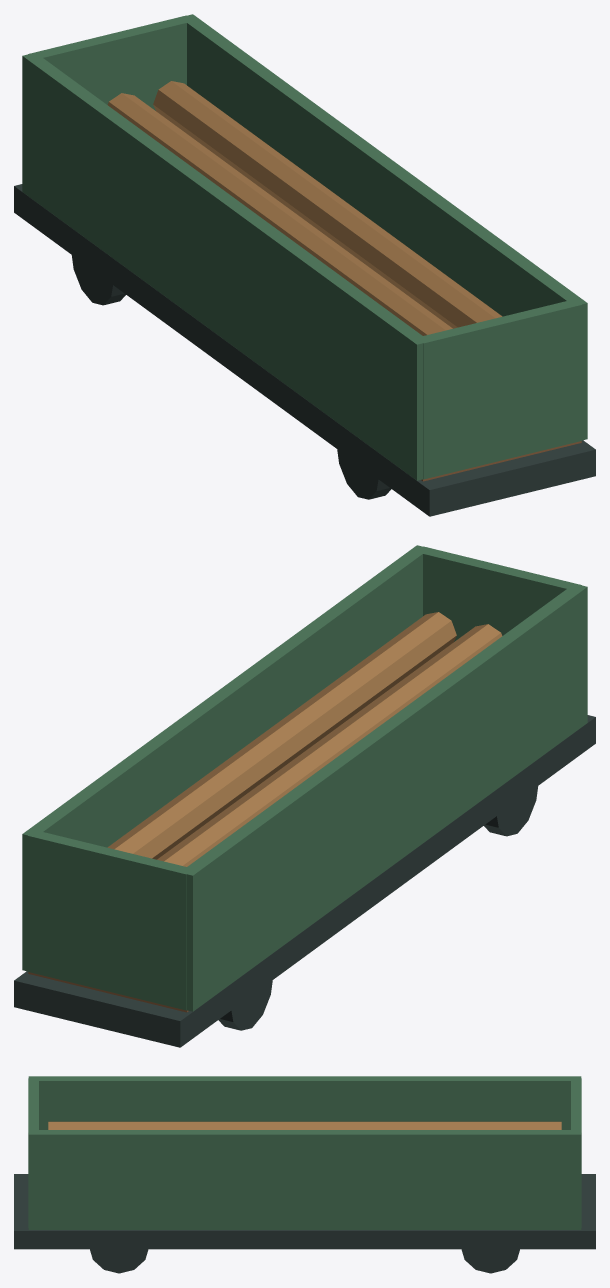
Rendered from fjord-freight-wagon_lod0.glb.
3 views of the same model, one above another, from view 1: azimuth 30°, elevation 25°; view 2: azimuth 150°, elevation 25°; view 3: azimuth 270°, elevation 25° (orthographic). The views are drawn at different scales.
Visible parts, largest first — view 1: RF_Freight_Side, RF_Freight_Side.001, RF_Freight_End, RF_Freight_Chassis, RF_Timber_Load.002, RF_Timber_Load.001, RF_Freight_End.001, RF_Wheel, RF_Wheel.002; view 2: RF_Freight_Side, RF_Freight_Side.001, RF_Freight_End.001, RF_Freight_Chassis, RF_Timber_Load.002, RF_Timber_Load.001, RF_Freight_End, RF_Wheel.002, RF_Wheel; view 3: RF_Freight_Side.001, RF_Freight_Side, RF_Freight_Chassis, RF_Timber_Load, RF_Wheel.001, RF_Wheel.003, RF_Freight_End.001, RF_Freight_End.
Part boxes in pixels (bbox=[...]): RF_Freight_Side: bbox=[22, 52, 429, 480]; RF_Freight_Side.001: bbox=[181, 14, 587, 440]; RF_Freight_End: bbox=[416, 300, 581, 479]; RF_Freight_Chassis: bbox=[14, 184, 595, 516]; RF_Timber_Load.002: bbox=[153, 81, 502, 328]; RF_Timber_Load.001: bbox=[107, 93, 452, 335]; RF_Freight_End.001: bbox=[28, 15, 192, 110]; RF_Wheel: bbox=[337, 449, 391, 499]; RF_Wheel.002: bbox=[71, 255, 125, 305]; RF_Freight_Side: bbox=[180, 583, 587, 1011]; RF_Freight_Side.001: bbox=[22, 545, 429, 971]; RF_Freight_End.001: bbox=[28, 830, 193, 1010]; RF_Freight_Chassis: bbox=[14, 715, 595, 1047]; RF_Timber_Load.002: bbox=[107, 612, 456, 859]; RF_Timber_Load.001: bbox=[157, 624, 502, 866]; RF_Freight_End: bbox=[417, 546, 581, 641]; RF_Wheel.002: bbox=[218, 980, 272, 1030]; RF_Wheel: bbox=[484, 786, 538, 836]; RF_Freight_Side.001: bbox=[28, 1130, 581, 1229]; RF_Freight_Side: bbox=[28, 1076, 581, 1129]; RF_Freight_Chassis: bbox=[14, 1174, 595, 1249]; RF_Timber_Load: bbox=[48, 1121, 561, 1129]; RF_Wheel.001: bbox=[90, 1249, 148, 1273]; RF_Wheel.003: bbox=[461, 1249, 519, 1273]; RF_Freight_End.001: bbox=[571, 1078, 581, 1227]; RF_Freight_End: bbox=[28, 1078, 38, 1227].
Size of the model in its own units: 2.82 by 3.17 by 11.9.
